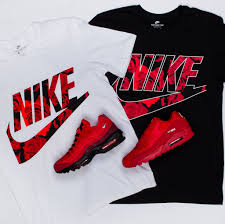nike: (1, 79, 104, 174), (106, 67, 208, 127)
